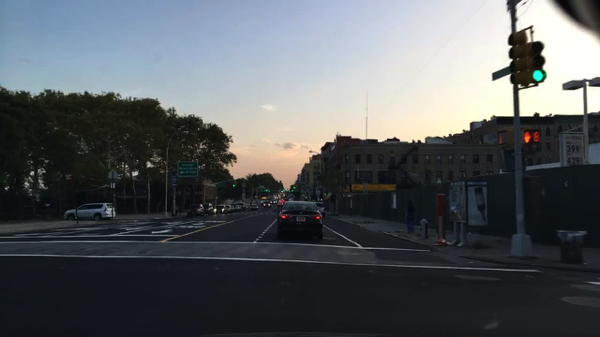car: (64, 202, 117, 221), (186, 204, 205, 217), (314, 202, 326, 218), (214, 204, 227, 216), (202, 203, 214, 216), (236, 202, 247, 211), (248, 204, 258, 211), (234, 204, 242, 212), (263, 202, 272, 209), (226, 205, 233, 214), (260, 198, 267, 206), (231, 206, 238, 214), (269, 199, 275, 205), (277, 201, 283, 207), (285, 197, 292, 202), (273, 199, 279, 204), (282, 199, 286, 206), (286, 196, 292, 200), (278, 196, 283, 200), (288, 194, 294, 197), (282, 193, 286, 197), (278, 193, 282, 197), (274, 195, 278, 199)
person: (404, 200, 416, 233)
traffic light: (506, 32, 527, 87), (525, 41, 546, 84), (500, 150, 527, 171), (522, 128, 541, 143), (496, 130, 512, 147), (232, 181, 237, 188), (264, 189, 269, 193), (293, 186, 297, 191), (281, 188, 286, 192), (290, 190, 294, 194)
traffic sign: (178, 162, 198, 177), (491, 66, 510, 81), (108, 170, 118, 179), (215, 183, 226, 189), (171, 176, 177, 186), (66, 174, 74, 181), (110, 182, 117, 189), (324, 195, 331, 201), (257, 187, 264, 192)
